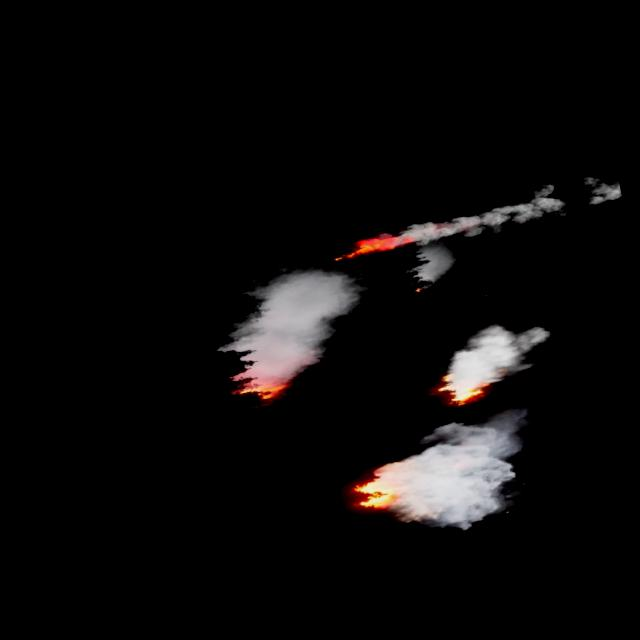fire: (434, 368, 492, 413), (351, 469, 405, 515), (340, 225, 410, 260), (237, 372, 286, 401)
smoke: (374, 404, 560, 544), (407, 172, 631, 284), (223, 262, 374, 386), (435, 309, 566, 390)
